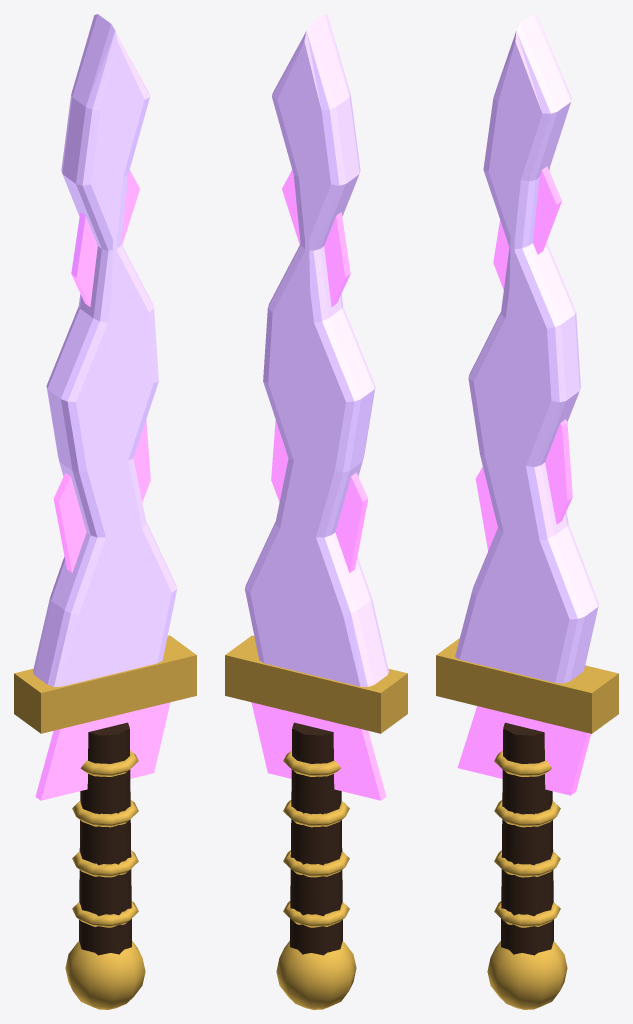
Rendered from dagger_f2_1404d73d.glb.
The picture shows the model from 3 angles, left to right: view 1: azimuth 30°, elevation 25°; view 2: azimuth 150°, elevation 25°; view 3: azimuth 330°, elevation 25°; orthographic projection.
Visible parts, largest first — view 1: m1_ow80_, m3_ow80_, m0_, m2_ow80_; view 2: m1_ow80_, m3_ow80_, m0_, m2_ow80_; view 3: m1_ow80_, m3_ow80_, m0_, m2_ow80_.
Boxes of the visible parts, x1,y1,x2,y2 form: m1_ow80_: (33, 14, 176, 686); m3_ow80_: (14, 635, 196, 1009); m0_: (35, 170, 170, 800); m2_ow80_: (79, 722, 131, 955); m1_ow80_: (245, 14, 388, 686); m3_ow80_: (225, 635, 407, 1009); m0_: (251, 170, 386, 800); m2_ow80_: (290, 722, 342, 955); m1_ow80_: (455, 14, 598, 683); m3_ow80_: (436, 638, 618, 1009); m0_: (457, 166, 590, 795); m2_ow80_: (501, 722, 553, 955).
Bounding box in the file's own units: 0.2 × 1.21 × 0.0852.
